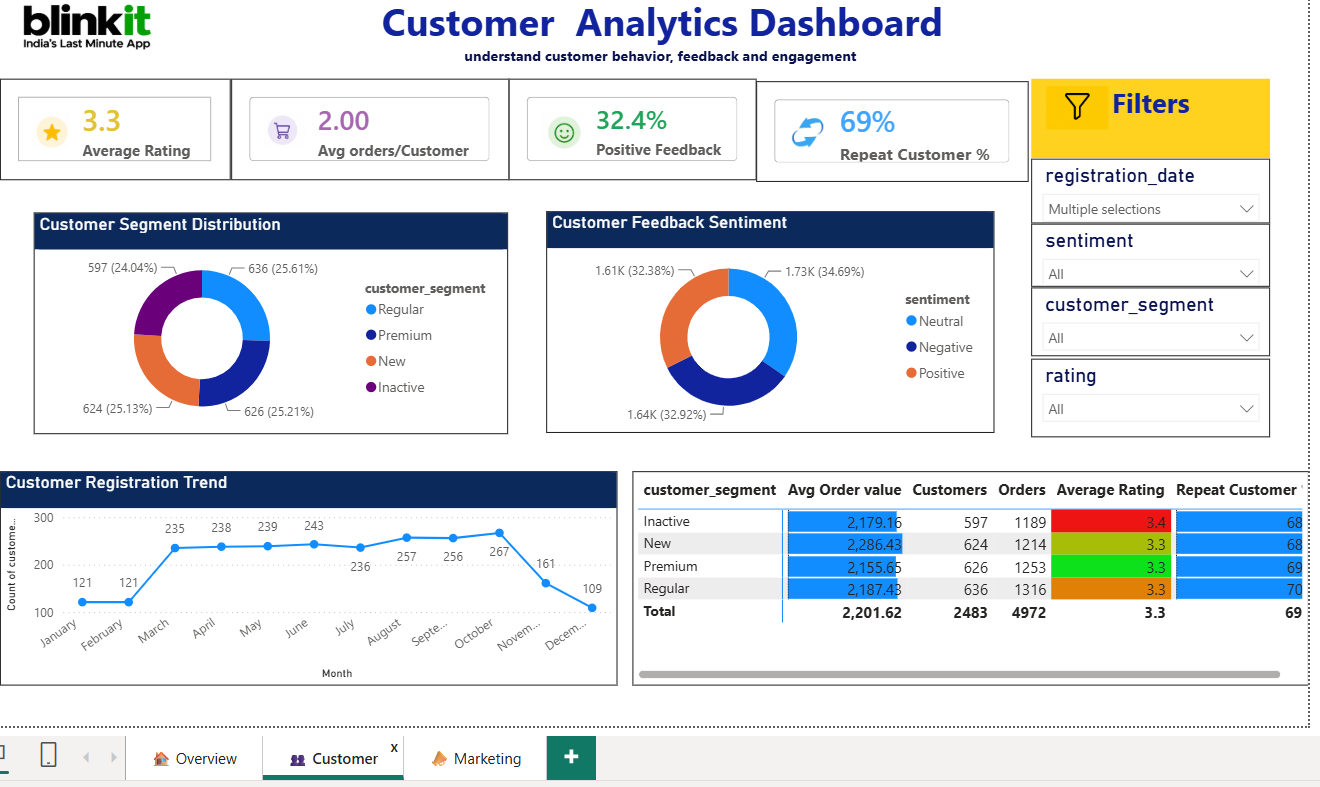

This screenshot's page, from the dashboard's own definition file:
{"tool":"powerbi","page":{"name":" 👥 Customer ","canvas":[1280,720],"ordinal":1},"visuals":[{"type":"textbox","box":[16.1,0,1264.1,80.7],"z":0},{"type":"slicer","fields":{"Values":["blinkit_customer_feedback.rating"]},"box":[1008.6,360.4,234,76.7],"z":1000},{"type":"slicer","fields":{"Values":["blinkit_customers.registration_date"]},"box":[1008.6,165.4,234,63.2],"z":2000},{"type":"slicer","fields":{"Values":["blinkit_customer_feedback.sentiment"]},"box":[1008.6,228.6,234,61.9],"z":3000},{"type":"textbox","box":[1008.6,87.4,234,78],"z":4000},{"type":"cardVisual","fields":{"Data":["measures (2).Average Orders/Customer"]},"box":[225.9,87.4,271.7,99.5],"z":5000},{"type":"cardVisual","fields":{"Data":["measures (2).Positive Feedback %"]},"box":[497.6,87.4,242.1,99.5],"z":6000},{"type":"cardVisual","fields":{"Data":["measures (2).⭐ Average Rating"]},"box":[0,87.4,225.9,99.5],"z":7000},{"type":"cardVisual","fields":{"Data":["measures (2).Repeat Customer %"]},"box":[739.7,88.8,266.3,98.2],"z":8000},{"type":"donutChart","title":"Customer Segment Distribution","fields":{"Y":["CountNonNull(blinkit_customers.customer_id)"],"Category":["blinkit_customers.customer_segment"]},"box":[33.6,217.9,464,216.5],"z":9000},{"type":"donutChart","title":"Customer Feedback Sentiment","fields":{"Y":["CountNonNull(blinkit_customer_feedback.feedback_id)"],"Category":["blinkit_customer_feedback.sentiment"]},"box":[533.9,216.5,438.4,216.5],"z":10000},{"type":"lineChart","title":"Customer Registration Trend","fields":{"Y":["Count(blinkit_customers.customer_id)"],"Category":["blinkit_customers.registration_date.Variation.Date Hierarchy.Month"]},"box":[0,470.7,603.8,209.8],"z":11000},{"type":"pivotTable","fields":{"Rows":["blinkit_customers.customer_segment"],"Values":["measures (2).Average Order value","measures (2).Customer Count","measures (2).Total Orders","measures (2).⭐ Average Rating","measures (2).Repeat Customer %"]},"box":[618.6,470.7,661.7,209.8],"z":12000},{"type":"slicer","fields":{"Values":["blinkit_customers.customer_segment"]},"box":[1008.6,290.5,234,67.2],"z":13000},{"type":"image","box":[1023.4,87.4,60.5,56.5],"z":14000},{"type":"image","box":[15.9,0,139.4,68.5],"z":15000}]}

Visuals, with their boxes in screenshot pixels (x1, y1, x2, y2):
textbox: 16, 0, 1302, 72
slicer - blinkit_customer_feedback.rating: 1026, 356, 1264, 434
slicer - blinkit_customers.registration_date: 1026, 158, 1264, 222
slicer - blinkit_customer_feedback.sentiment: 1026, 222, 1264, 285
textbox: 1026, 79, 1264, 158
cardVisual - measures (2).Average Orders/Customer: 230, 79, 506, 180
cardVisual - measures (2).Positive Feedback %: 506, 79, 752, 180
cardVisual - measures (2).⭐ Average Rating: 0, 79, 230, 180
cardVisual - measures (2).Repeat Customer %: 752, 80, 1023, 180
"Customer Segment Distribution" donutChart: 34, 211, 506, 431
"Customer Feedback Sentiment" donutChart: 543, 210, 989, 430
"Customer Registration Trend" lineChart: 0, 468, 614, 682
pivotTable - blinkit_customers.customer_segment x measures (2).Average Order value: 629, 468, 1302, 682
slicer - blinkit_customers.customer_segment: 1026, 285, 1264, 353
image: 1041, 79, 1102, 136
image: 16, 0, 158, 59
